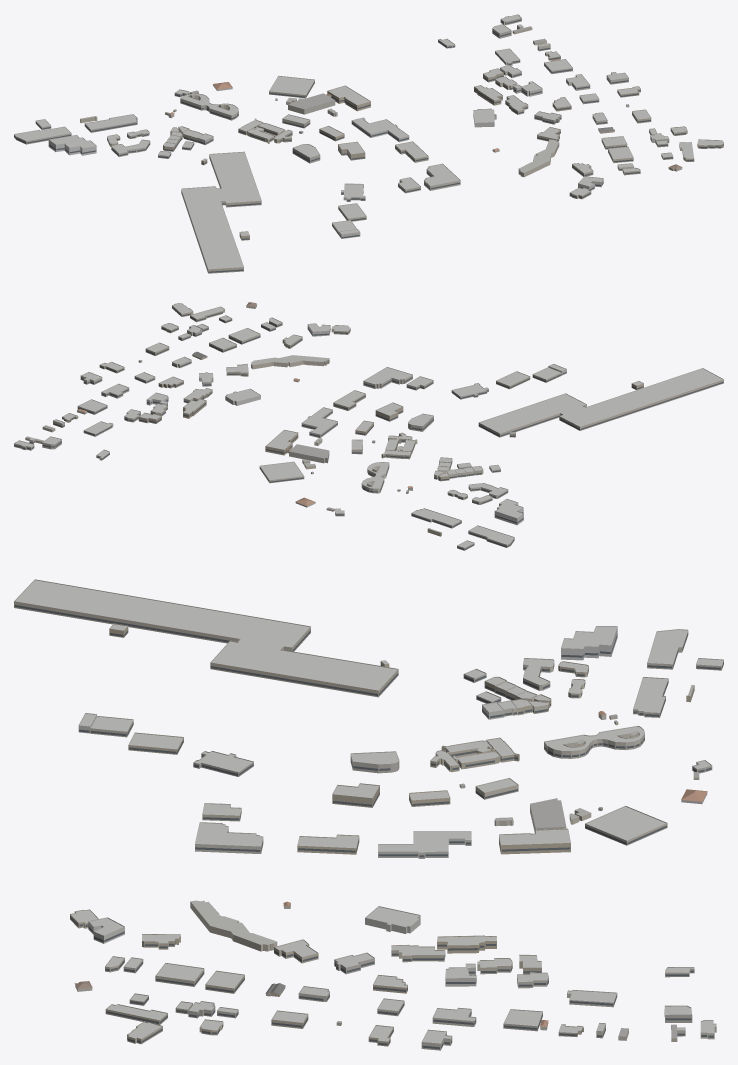
File: buildings_r3_c7.glb
3 views of the same model, one above another, from view 1: azimuth 30°, elevation 25°; view 2: azimuth 150°, elevation 25°; view 3: azimuth 270°, elevation 25° (orthographic). The views are drawn at different scales.
Visible parts, largest first — view 1: buildings_r3_c7; view 2: buildings_r3_c7; view 3: buildings_r3_c7.
Boxes of the visible parts, bbox=[...] form: buildings_r3_c7: bbox=[14, 14, 723, 273]; buildings_r3_c7: bbox=[14, 302, 723, 550]; buildings_r3_c7: bbox=[14, 579, 723, 1050].
Size of the model in its own units: 1221 by 88.31 by 886.
